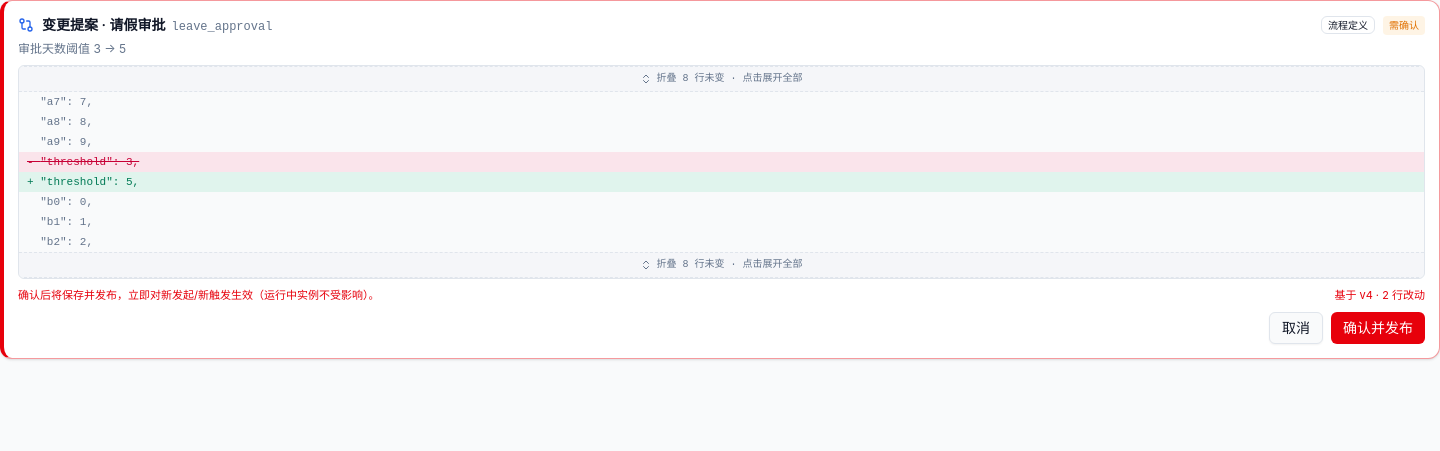
Test: devDiff 卡 › diff 渲染：add/del 行 + 未变段折叠 + 展开全部
Expected: the text "变更提案 · 请假审批" is shown, [42,16,272,34]
Expected: the text "审批天数阈值 3 → 5" is shown, [18,41,126,56]
Click the 1st button "折叠 8 行未变 · 点击展开全部": point(722, 79) [19,66,1424,92]
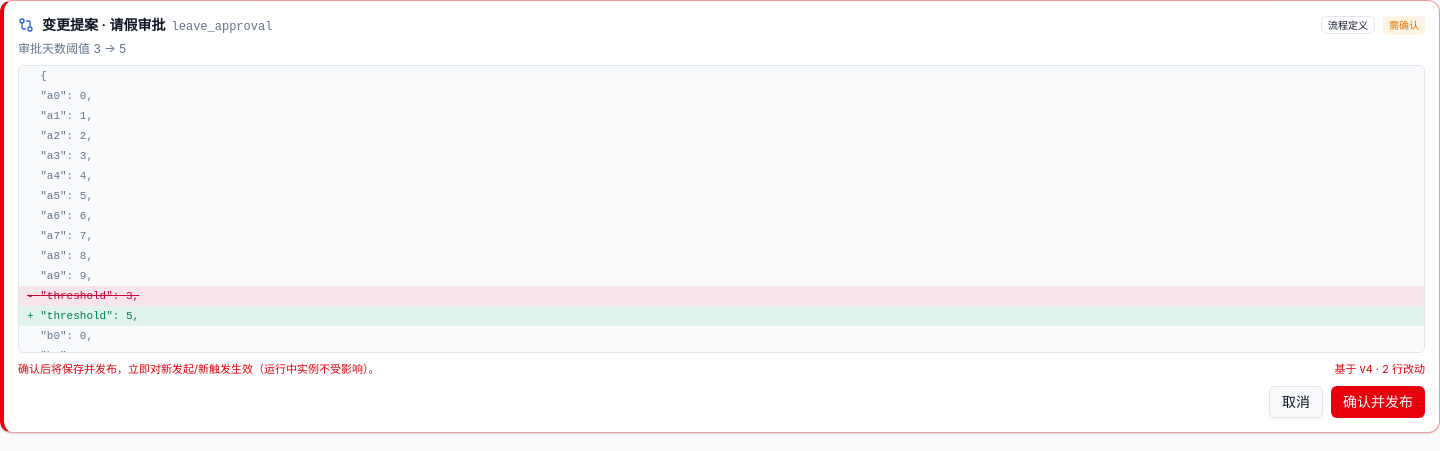
Expected: the text "确认后将保存并发布，立即对新发起/新触发生效（运行中实例不受影响）。 基于 v4 · 2 行改动" is shown, [18,361,1425,378]
Result: the text "\"a0\": 0," is shown at [40,90,93,102]
Result: the button "折叠 8 行未变 · 点击展开全部" is gone
